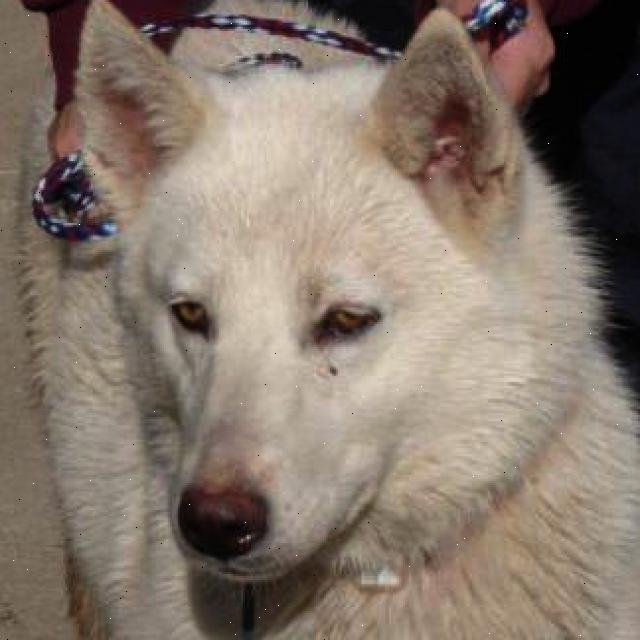Dog: (69, 0, 526, 605)
